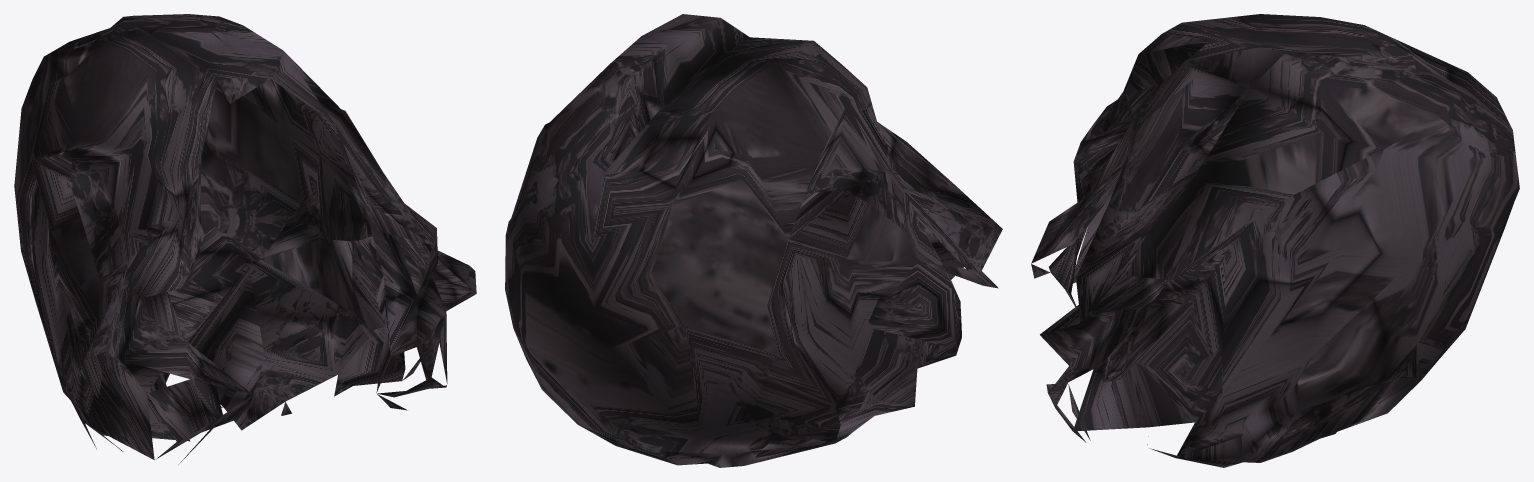
Rendered from hair_f2.glb.
3 views of the same model, side by side, from view 1: azimuth 30°, elevation 25°; view 2: azimuth 150°, elevation 25°; view 3: azimuth 270°, elevation 25° (orthographic). The views are drawn at different scales.
Visible parts, largest first — view 1: hair_f2; view 2: hair_f2; view 3: hair_f2.
Part boxes in pixels (bbox=[...]): hair_f2: bbox=[14, 14, 476, 464]; hair_f2: bbox=[505, 14, 1002, 467]; hair_f2: bbox=[1031, 14, 1519, 467].
Bounding box in the file's own units: 0.8949 × 0.8351 × 0.9359.
1 material, 1 textured.
